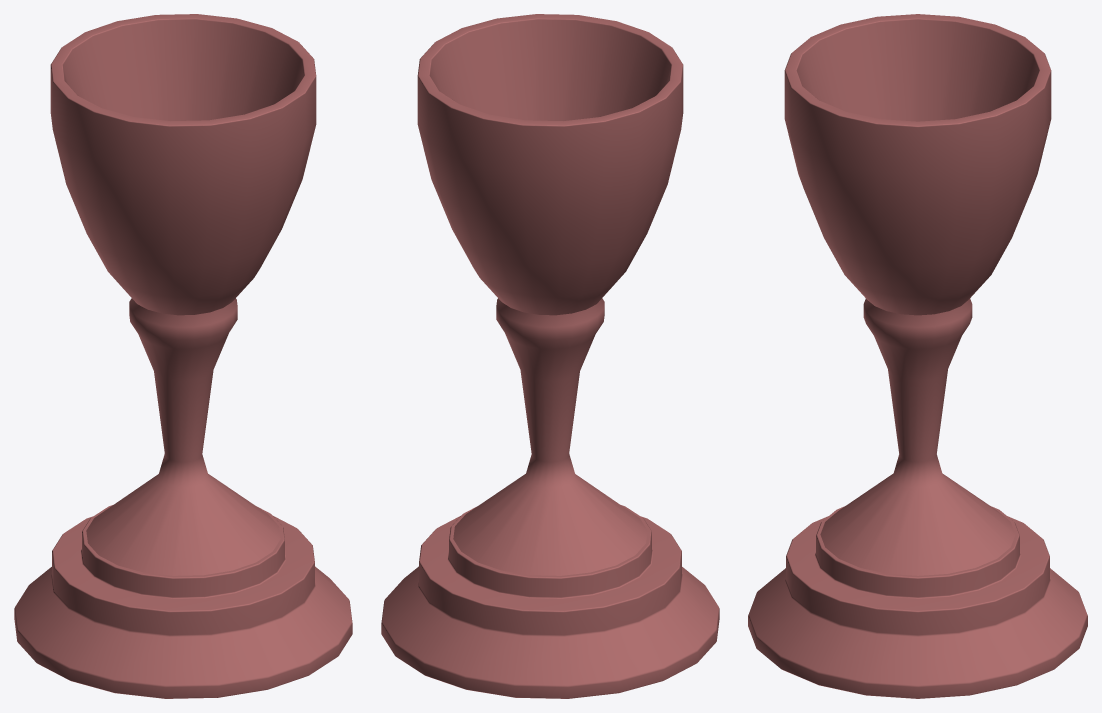
File: Trophy 1.fbx
3 views of the same model, side by side, from view 1: azimuth 30°, elevation 25°; view 2: azimuth 150°, elevation 25°; view 3: azimuth 270°, elevation 25° (orthographic).
Visible parts, largest first — view 1: pCylinder2, pCylinder1; view 2: pCylinder2, pCylinder1; view 3: pCylinder2, pCylinder1.
Part boxes in pixels (left/top/right/bottom): pCylinder2: left=50, top=14, right=316, bottom=575; pCylinder1: left=14, top=505, right=352, bottom=698; pCylinder2: left=417, top=14, right=683, bottom=575; pCylinder1: left=381, top=505, right=719, bottom=698; pCylinder2: left=784, top=14, right=1051, bottom=575; pCylinder1: left=748, top=506, right=1087, bottom=698.
Bounding box in the file's own units: 94.31 × 171 × 94.31.
